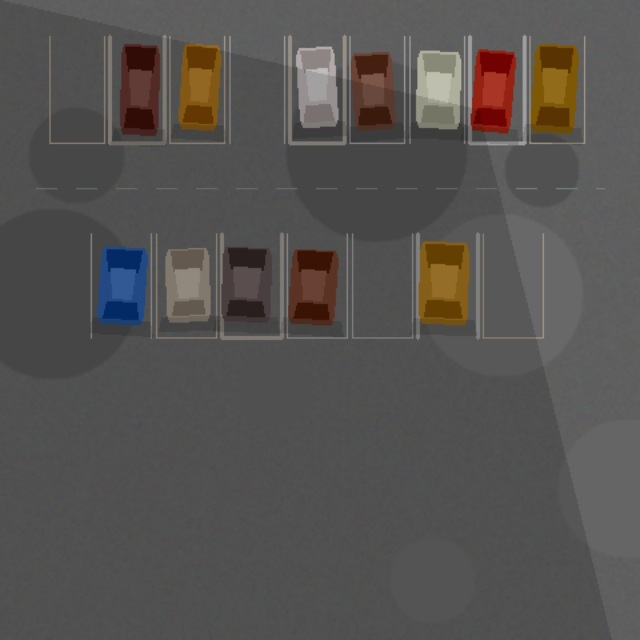space-empty: (352, 233, 412, 337), (483, 233, 543, 337), (49, 36, 104, 143), (229, 36, 284, 143)
space-occupied: (91, 233, 151, 337), (156, 233, 216, 337), (221, 233, 281, 337), (287, 233, 347, 337), (417, 233, 477, 337), (109, 36, 164, 143), (169, 36, 224, 143), (289, 36, 344, 143), (349, 36, 404, 143), (409, 36, 464, 143), (469, 36, 524, 143), (529, 36, 584, 143)
